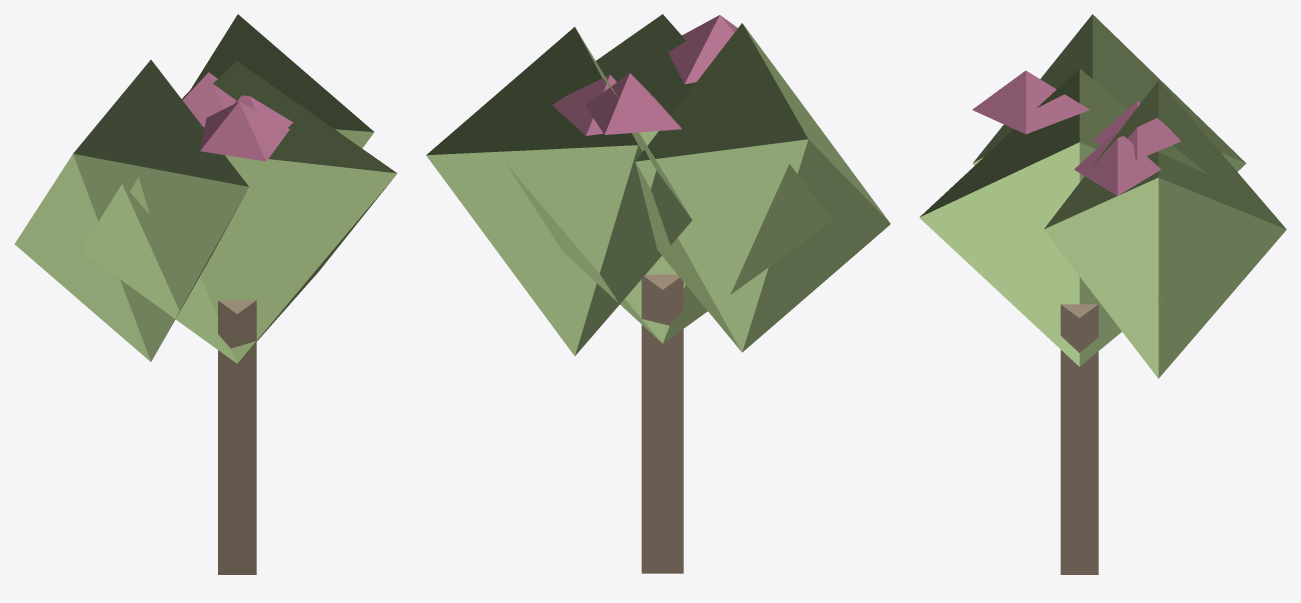
File: sprout.temp.sapling__bloom.glb
3 renders of one model, left to right at view 1: azimuth 30°, elevation 25°; view 2: azimuth 150°, elevation 25°; view 3: azimuth 270°, elevation 25°, orthographic. The views are drawn at different scales.
Visible parts, largest first — view 1: sprout.temp.sapling__bloom; view 2: sprout.temp.sapling__bloom; view 3: sprout.temp.sapling__bloom.
Part boxes in pixels (bbox=[...]): sprout.temp.sapling__bloom: bbox=[14, 14, 397, 574]; sprout.temp.sapling__bloom: bbox=[426, 14, 890, 573]; sprout.temp.sapling__bloom: bbox=[919, 14, 1286, 574].
Size of the model in its own units: 0.93 by 1.21 by 0.7632.
